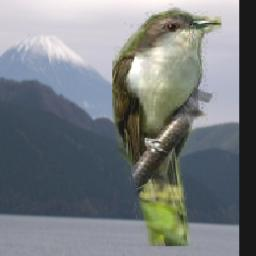Cuckoo: (113, 3, 223, 246)
